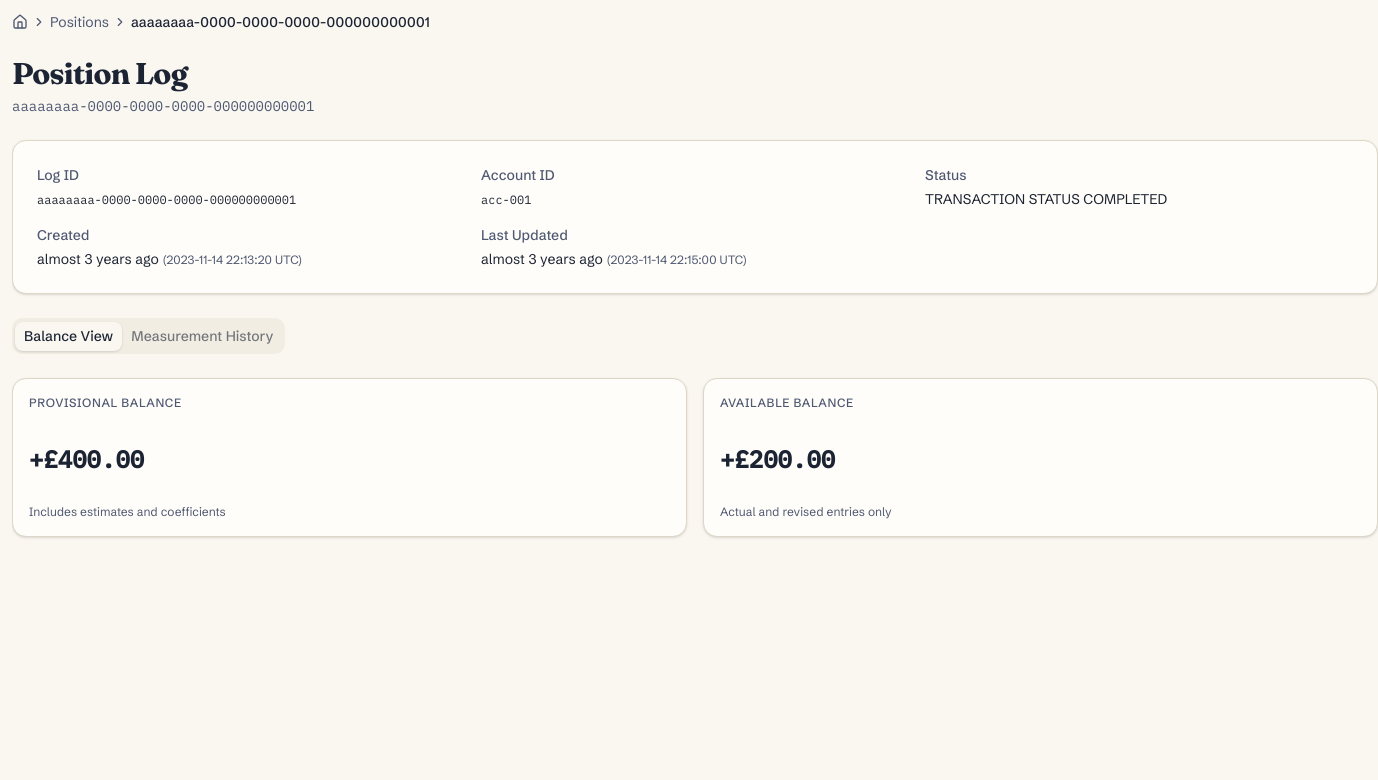
Test: PositionDetailPage › quality progress: ESTIMATE < COEFFICIENT < ACTUAL < REVISED ordering
Click the tab "Measurement History": (202, 336) x1=122 y1=322 x2=282 y2=350
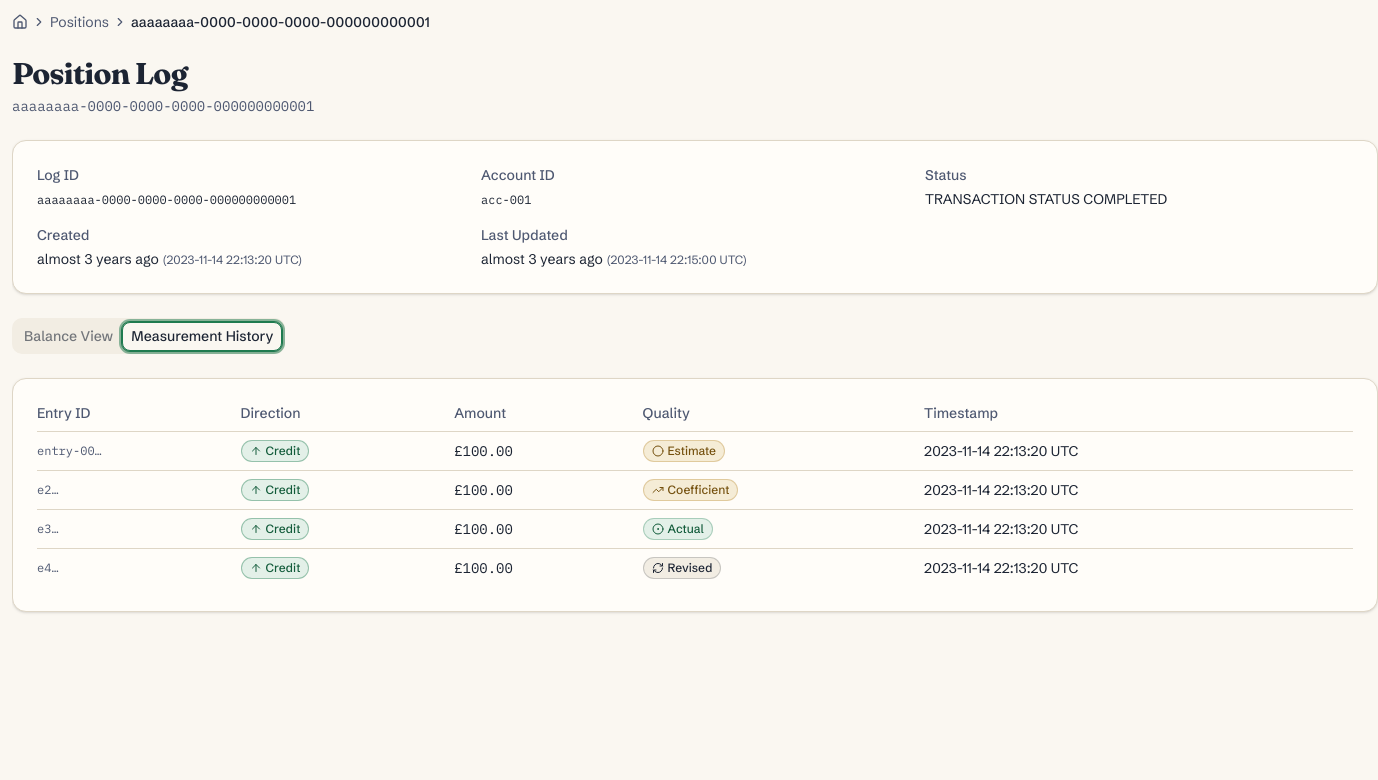
expect the number of elements with test id "quality-ladder-badge" is 4: met, box x1=643 y1=440 x2=725 y2=462; x1=643 y1=479 x2=738 y2=501; x1=643 y1=518 x2=713 y2=540; x1=643 y1=557 x2=721 y2=579
